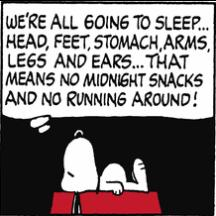snoopy: (58, 127, 152, 214)
